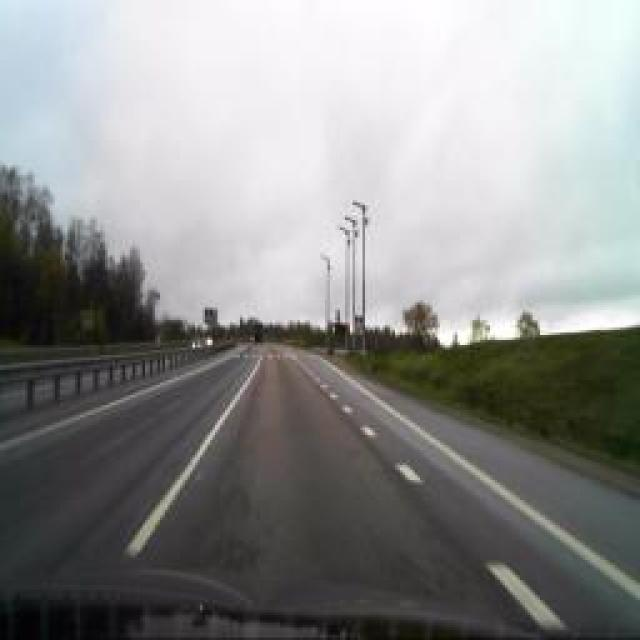sign: (81, 311, 91, 329), (204, 308, 214, 324), (355, 315, 363, 330)
